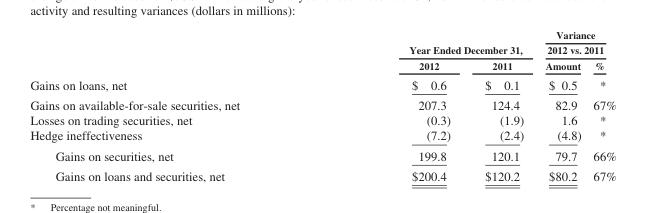table: (29, 28, 615, 182)
table column: (29, 28, 323, 182), (323, 28, 467, 182), (467, 28, 533, 182), (533, 28, 586, 182), (586, 28, 615, 182)
table column header: (29, 28, 615, 74)
table row: (29, 28, 615, 57), (29, 74, 615, 94), (29, 145, 615, 165), (29, 94, 615, 112), (29, 127, 615, 145), (29, 57, 615, 74), (29, 165, 615, 182), (29, 112, 615, 127)
table spanning cell: (323, 28, 533, 57), (533, 28, 615, 57)
